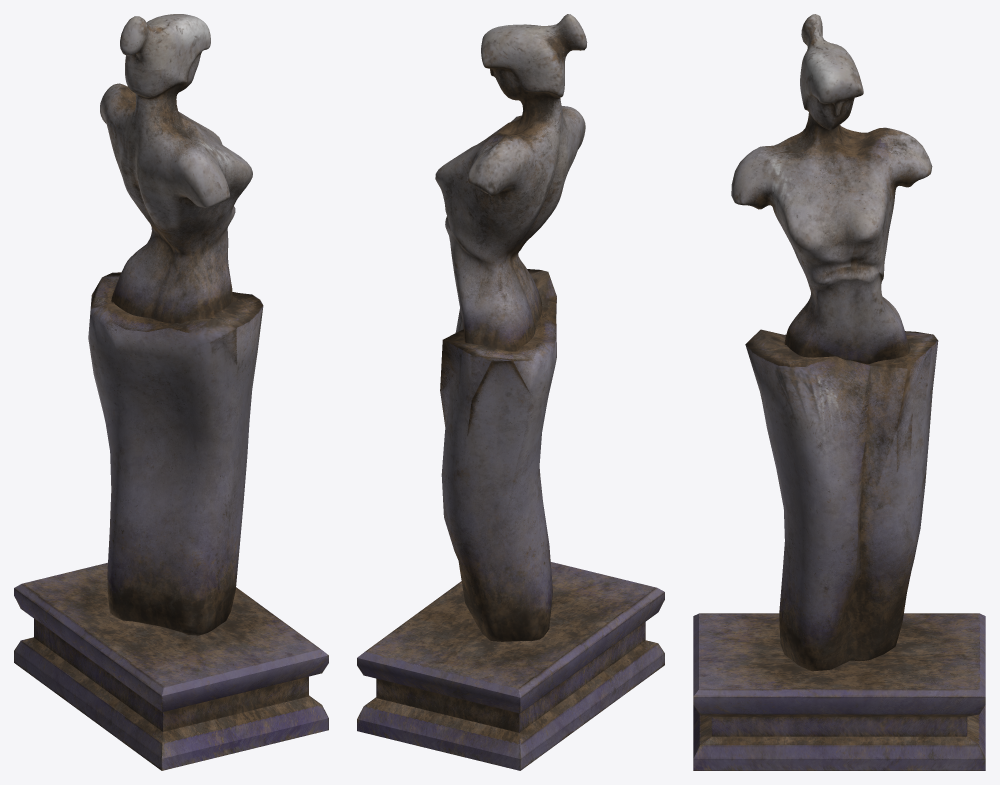
Rendered from statue_with_texture.fbx.
3 renders of one model, left to right at view 1: azimuth 30°, elevation 25°; view 2: azimuth 150°, elevation 25°; view 3: azimuth 270°, elevation 25°, orthographic. The views are drawn at different scales.
Visible parts, largest first — view 1: pCube3, pCube1, pCube4; view 2: pCube1, pCube3, pCube4; view 3: pCube3, pCube1, pCube4.
Part boxes in pixels (box(x1,y1,x2,y2)): pCube3: box(88, 272, 263, 635); pCube1: box(14, 562, 328, 770); pCube4: box(100, 14, 252, 323); pCube1: box(357, 562, 664, 770); pCube3: box(440, 269, 556, 641); pCube4: box(435, 14, 587, 351); pCube3: box(745, 329, 938, 671); pCube1: box(693, 613, 985, 770); pCube4: box(731, 14, 932, 364).
Size of the model in its own units: 23.26 by 93.2 by 35.63.
